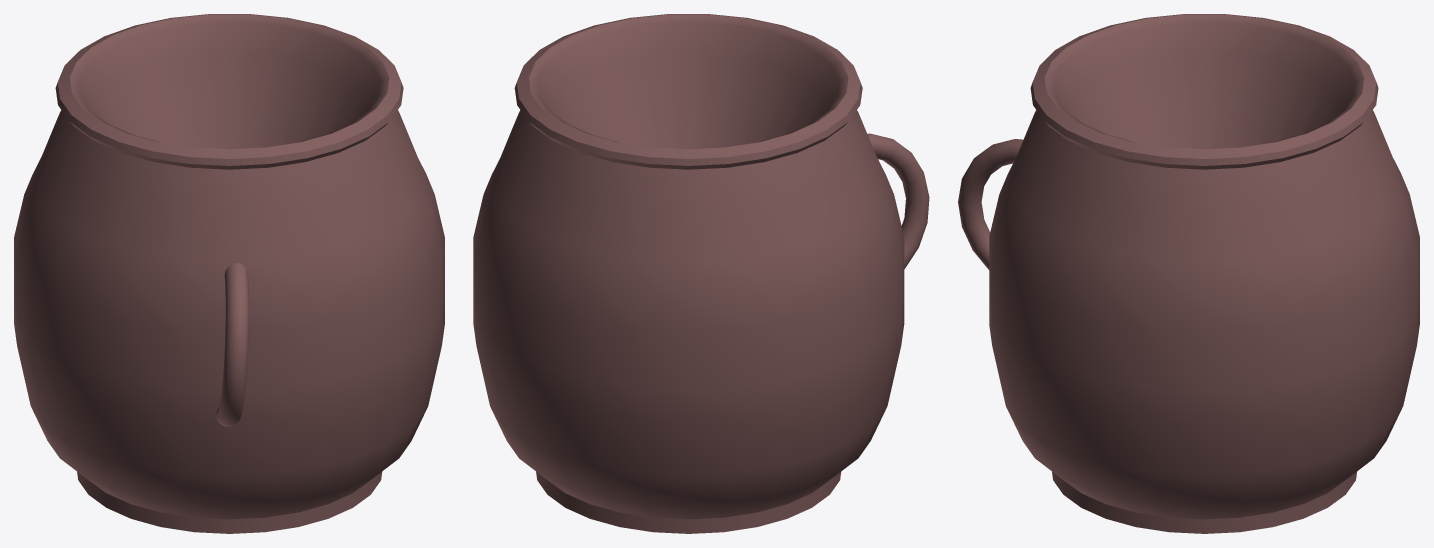
The model's file is Prop_Vase.fbx.
The picture shows the model from 3 angles, left to right: view 1: azimuth 30°, elevation 25°; view 2: azimuth 150°, elevation 25°; view 3: azimuth 270°, elevation 25°; orthographic projection.
Parts seen in each view (by area): view 1: Prop_Vase; view 2: Prop_Vase; view 3: Prop_Vase.
Boxes of the visible parts, box(x1,y1,x2,y2) form: Prop_Vase: box(14, 14, 444, 533); Prop_Vase: box(473, 14, 929, 533); Prop_Vase: box(958, 14, 1419, 533).
Size of the model in its own units: 53.69 by 53.38 by 57.67.
